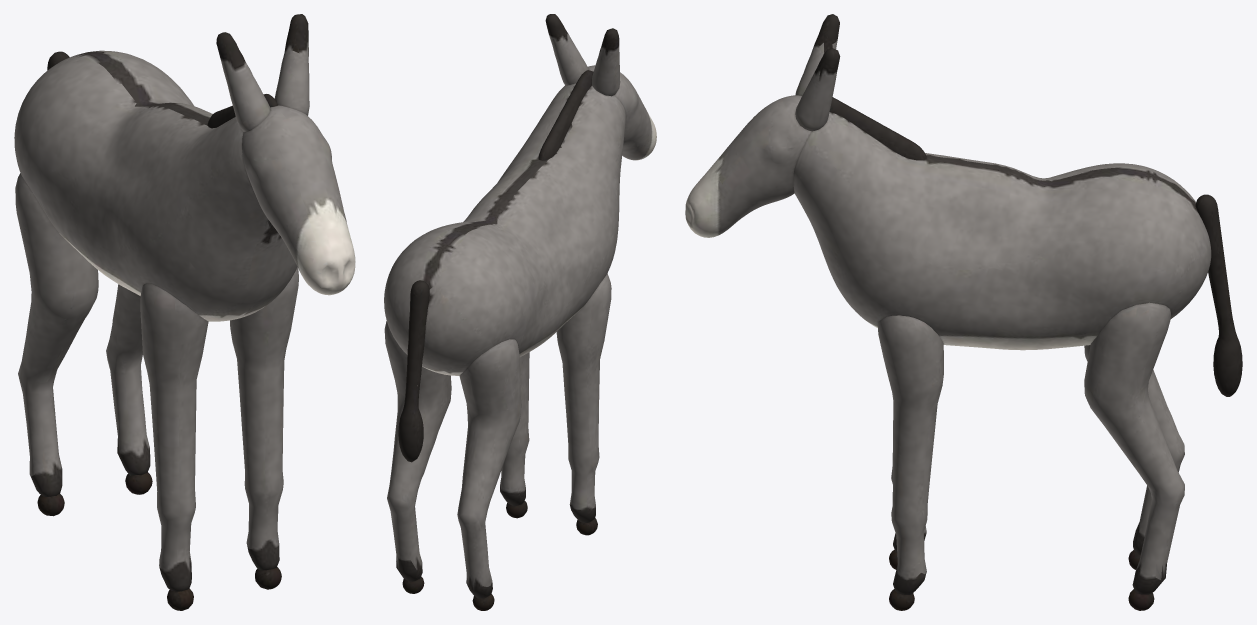
File: animal_donkey.glb
3 renders of one model, left to right at view 1: azimuth 30°, elevation 25°; view 2: azimuth 150°, elevation 25°; view 3: azimuth 270°, elevation 25°, orthographic. The views are drawn at different scales.
Visible parts, largest first — view 1: animal_donkey, head, leg0, leg2, leg1, leg3; view 2: animal_donkey, leg2, leg0, leg3, head, tail, leg1; view 3: animal_donkey, leg3, head, leg1, tail, leg2.
Boxes of the visible parts, x1,y1,x2,y2 form: animal_donkey: (14,50,297,321); head: (216,14,355,295); leg0: (140,283,208,610); leg2: (15,173,98,516); leg1: (230,267,298,589); leg3: (106,284,152,494); animal_donkey: (384,70,625,375); leg2: (457,339,521,610); leg0: (556,273,611,535); leg3: (384,321,451,593); head: (545,14,656,160); tail: (398,280,429,462); leg1: (500,352,529,518); animal_donkey: (793,97,1211,350); leg3: (1084,302,1184,610); head: (685,14,840,237); leg1: (877,315,943,610); tail: (1195,194,1242,396); leg2: (1084,345,1184,569).
Bounding box in the file's own units: 0.185 × 0.6726 × 0.6085.
1 material, 1 textured.
